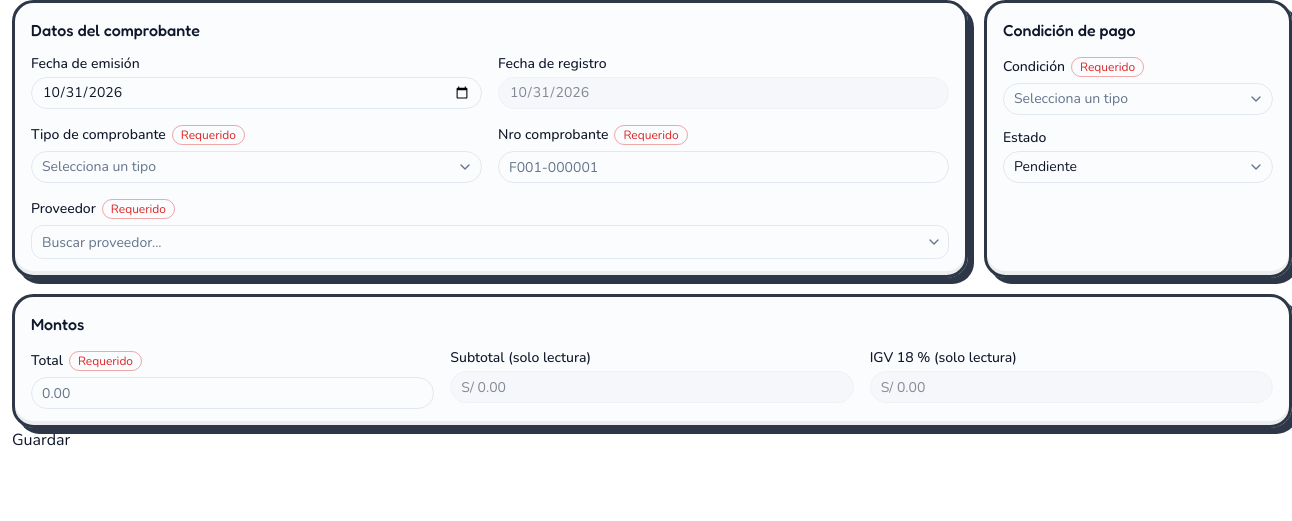
Scenario: VoucherForm — compra: proveedores y tipo sugerido › sugiere Factura cuando el proveedor tiene RUC
Click the dropdown with placeholder "Buscar proveedor...": (476, 242) [32,226,920,258]
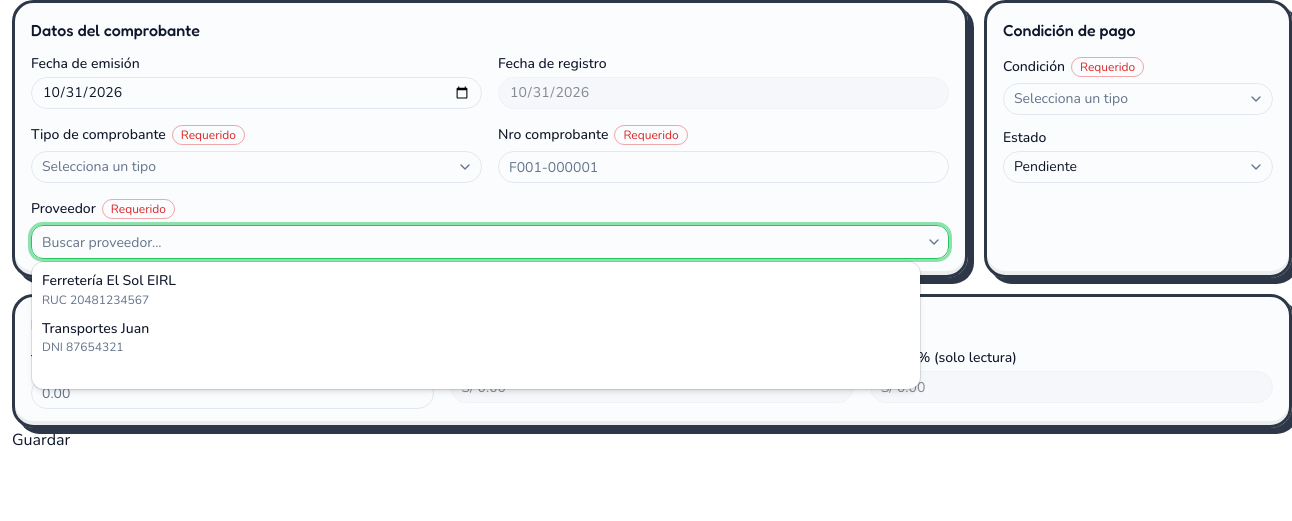
Click the text "Ferretería El Sol EIRL": (109, 280) [42,271,176,290]
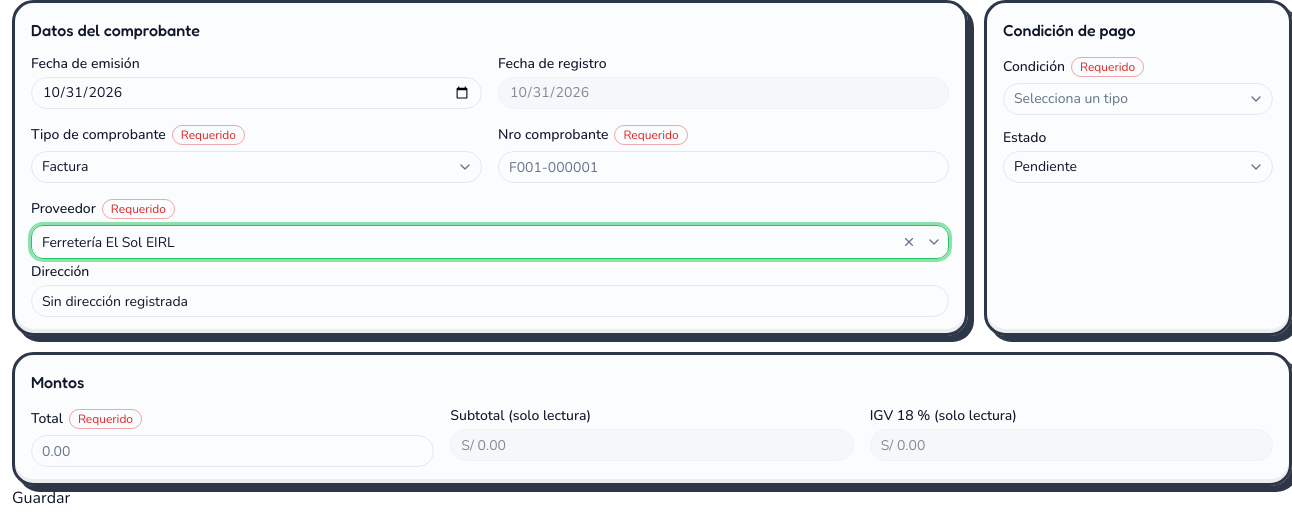
Now the text "Factura" is shown, box [42,157,88,176]
